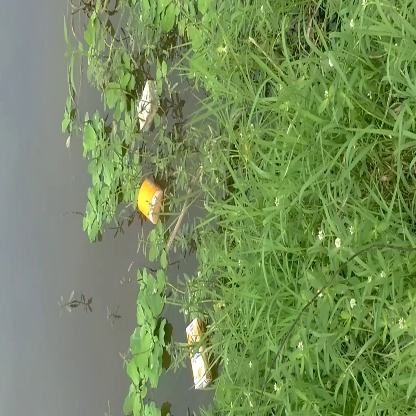bottle: (131, 174, 178, 228)
milk-box: (180, 315, 214, 391)
